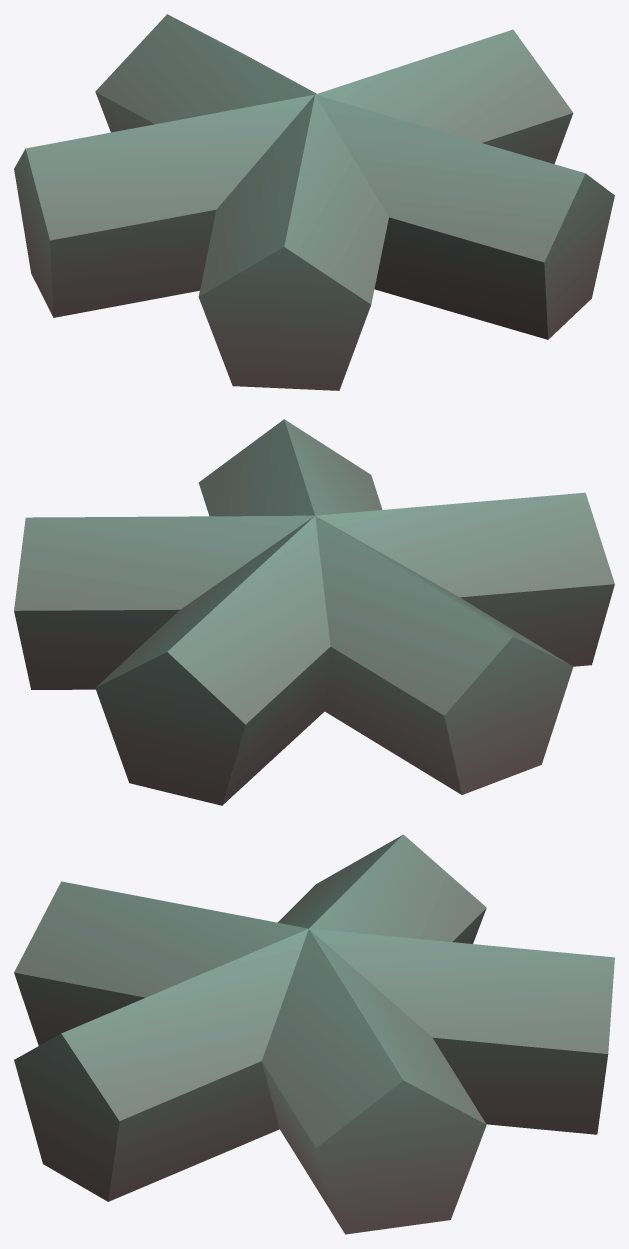
The model's file is campfire.glb.
The picture shows the model from 3 angles, top to bottom: view 1: azimuth 30°, elevation 25°; view 2: azimuth 150°, elevation 25°; view 3: azimuth 270°, elevation 25°; orthographic projection. The views are drawn at different scales.
Visible parts, largest first — view 1: Cylinder.006; view 2: Cylinder.006; view 3: Cylinder.006.
Part boxes in pixels (box(x1,y1,x2,y2)): Cylinder.006: box(14, 14, 614, 390); Cylinder.006: box(14, 419, 614, 805); Cylinder.006: box(14, 834, 614, 1234).
Bounding box in the file's own units: 6.62 × 2.14 × 6.37.
1 material, 1 textured.
